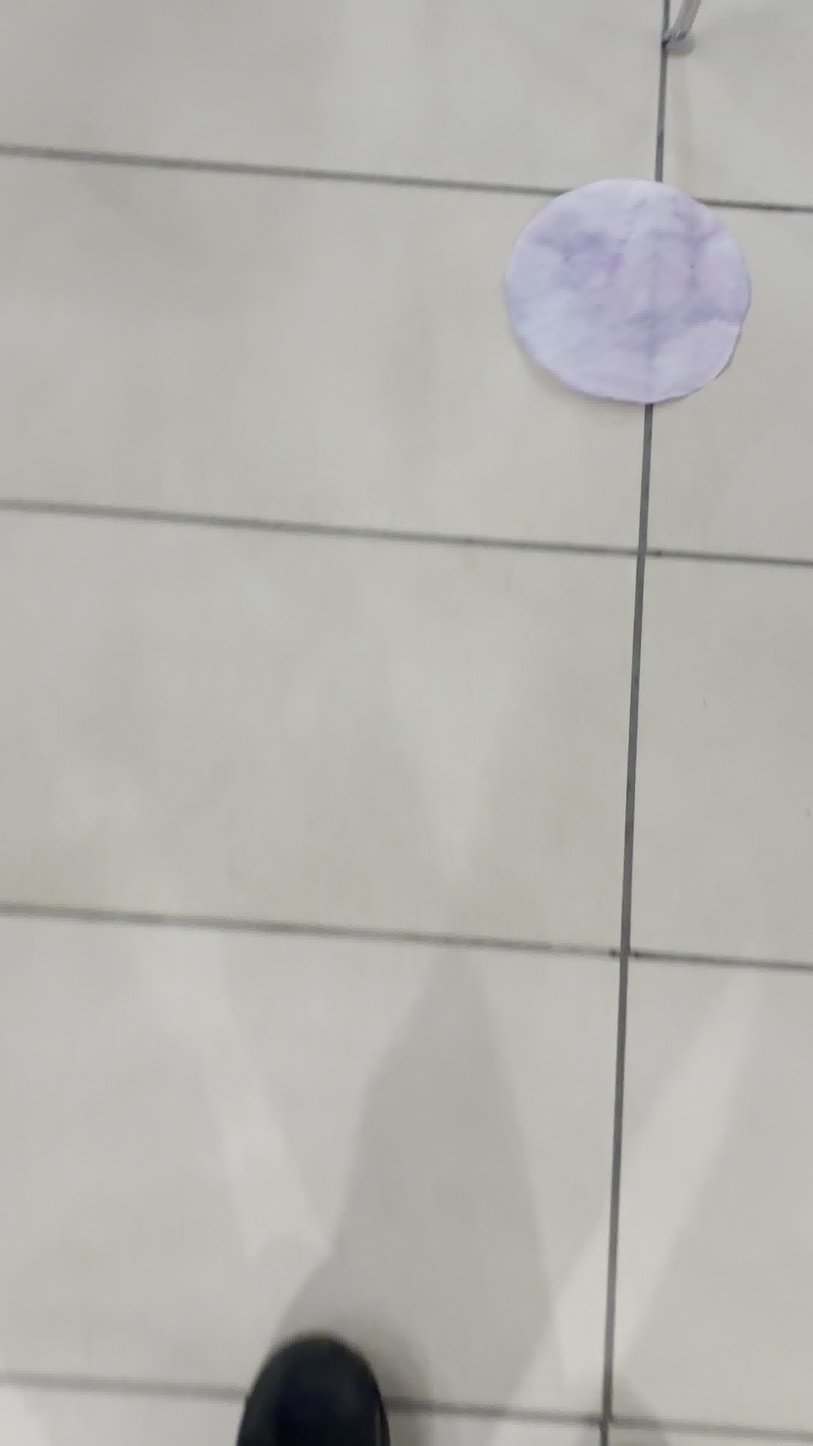Target: (495, 166, 753, 409)
